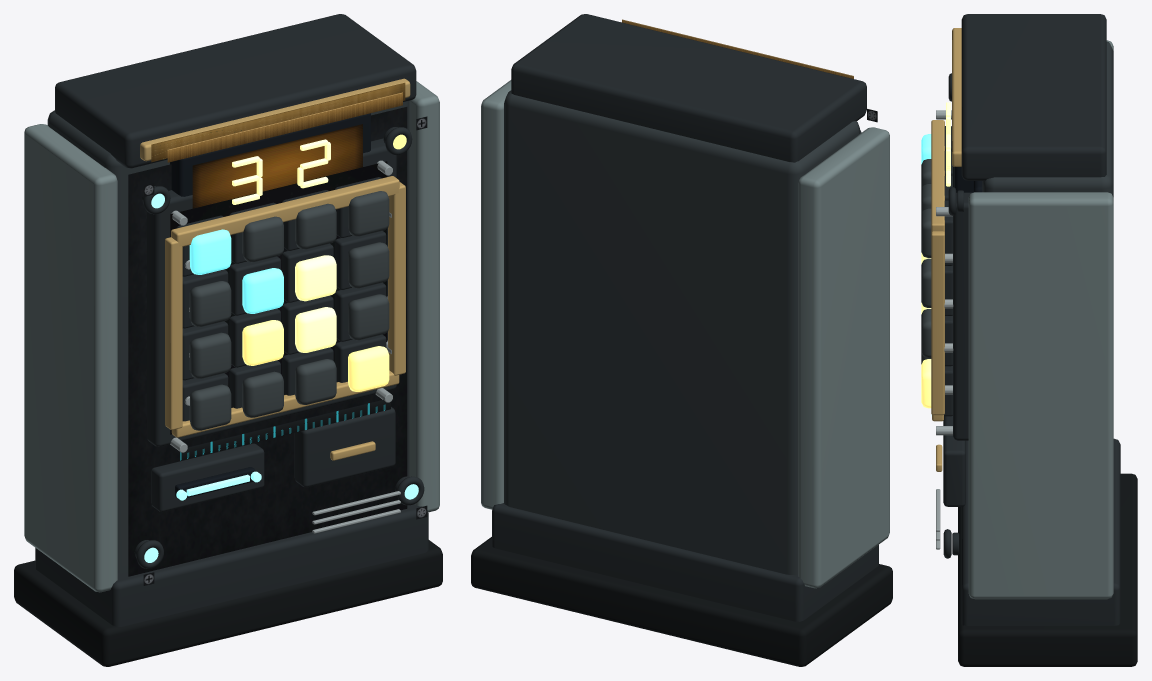
Rendered from hp_puzzle_console_archive_merge.glb.
The picture shows the model from 3 angles, left to right: view 1: azimuth 30°, elevation 25°; view 2: azimuth 150°, elevation 25°; view 3: azimuth 270°, elevation 25°; orthographic projection. The views are drawn at different scales.
Parts seen in each view (by area): view 1: archive_left_ceramic_cheek, archive_shell_powdercoat_image2, archive_top_rail, archive_floor_shadow_plinth, archive_lower_skid, archive_right_ceramic_cheek, archive_graphite_body, archive_tile_bay_frame, archive_target_glass, archive_release_drawer, archive_card_slot_frame, archive_compression_crossbar_top (+38 smaller); view 2: archive_graphite_body, archive_left_ceramic_cheek, archive_top_rail, archive_floor_shadow_plinth, archive_lower_skid, archive_right_ceramic_cheek, archive_brow_strip; view 3: archive_right_ceramic_cheek, archive_top_rail, archive_floor_shadow_plinth, archive_lower_skid, archive_tile_bay_frame, archive_graphite_body, archive_right_compression_ram, archive_release_drawer, archive_compression_crossbar_top, archive_top_brass_lip, archive_identity_tile_0_3_cap, archive_identity_tile_1_3_cap (+7 smaller).
Part boxes in pixels (x1,y1,x2,y2): archive_left_ceramic_cheek: (24,124,117,592); archive_shell_powdercoat_image2: (128,107,407,576); archive_top_rail: (55,14,416,168); archive_floor_shadow_plinth: (14,540,442,666); archive_lower_skid: (35,504,428,626); archive_right_ceramic_cheek: (409,81,439,512); archive_graphite_body: (47,101,409,573); archive_tile_bay_frame: (147,138,396,446); archive_target_glass: (192,124,362,208); archive_release_drawer: (294,407,395,487); archive_card_slot_frame: (151,443,264,511); archive_compression_crossbar_top: (171,176,399,246); archive_graphite_body: (504,90,859,575); archive_left_ceramic_cheek: (798,127,889,588); archive_top_rail: (511,14,866,162); archive_floor_shadow_plinth: (471,537,892,666); archive_lower_skid: (492,503,878,621); archive_right_ceramic_cheek: (481,80,511,509); archive_brow_strip: (622,19,853,78); archive_right_ceramic_cheek: (968,192,1113,599); archive_top_rail: (961,14,1106,180); archive_floor_shadow_plinth: (958,473,1137,666); archive_lower_skid: (961,438,1120,625); archive_tile_bay_frame: (953,166,972,440); archive_graphite_body: (982,41,1113,197); archive_right_compression_ram: (931,231,944,415); archive_release_drawer: (943,416,965,506); archive_compression_crossbar_top: (931,120,944,231); archive_top_brass_lip: (952,28,961,166); archive_identity_tile_0_3_cap: (921,208,931,257); archive_identity_tile_1_3_cap: (921,258,931,307).
Size of the model in its own units: 1.11 by 1.63 by 0.627.
16 materials, 3 textured.
